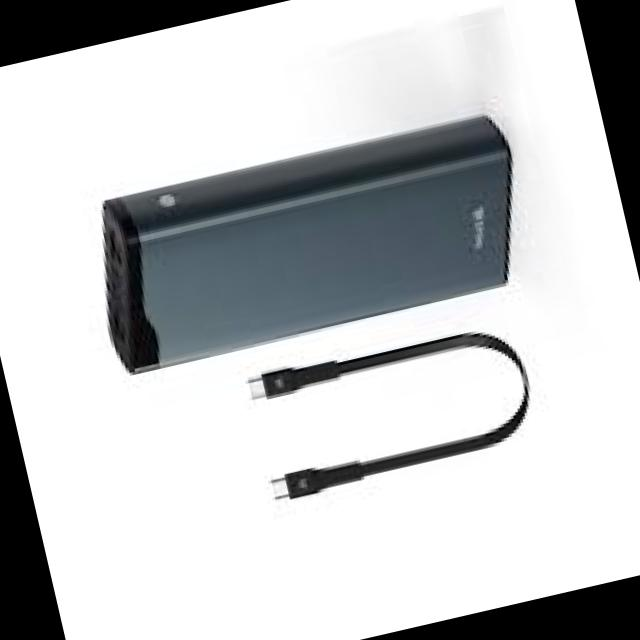power_bank: (77, 105, 545, 385)
